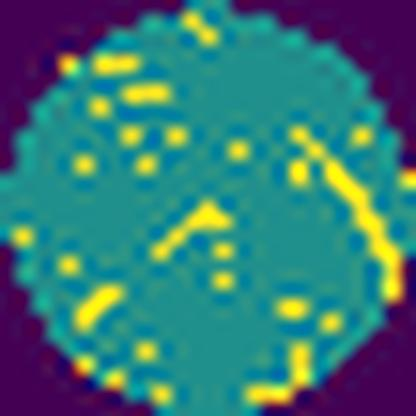Scratch: (291, 124, 406, 307), (144, 194, 237, 268)
